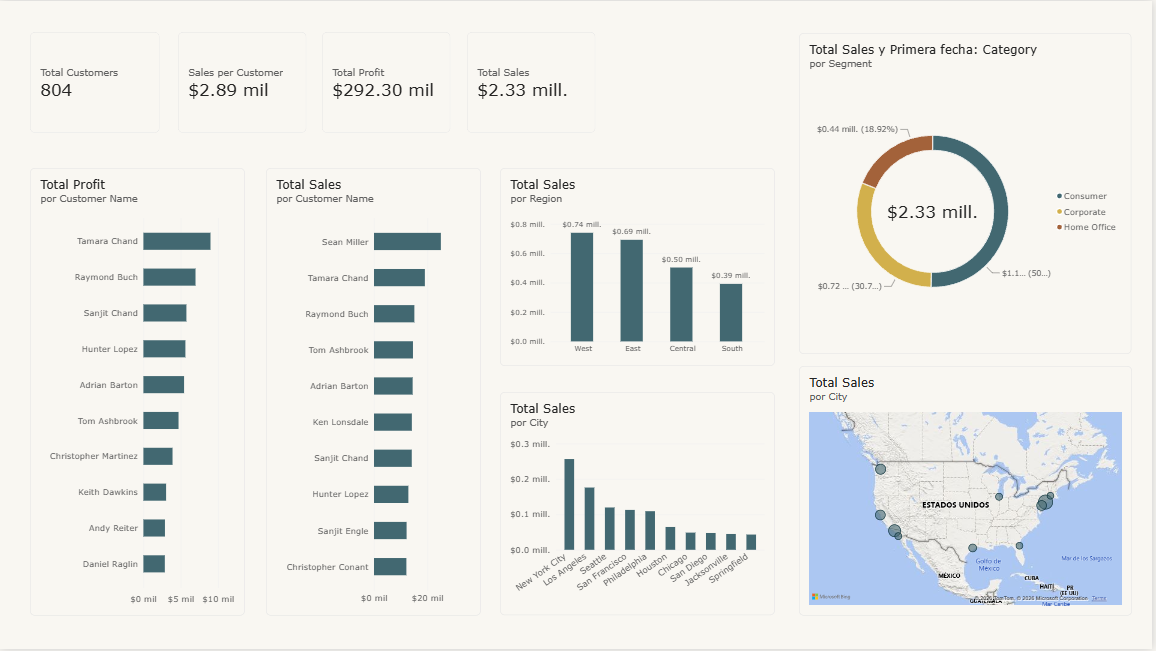

This screenshot's page, from the dashboard's own definition file:
{"tool":"powerbi","page":{"name":"Customer & Regional Analysis","canvas":[1920,1080],"ordinal":3},"visuals":[{"type":"clusteredColumnChart","fields":{"Category":["Orders.Region"],"Y":["Orders.Total Sales"]},"box":[834,278,458,330],"z":0},{"type":"donutChart","fields":{"Category":["Orders.Segment"],"Y":["Orders.Total Sales"]},"box":[1332,52.5,554.4,535.4],"z":2000},{"type":"clusteredBarChart","fields":{"Category":["Orders.Customer Name"],"Y":["Orders.Total Sales"]},"box":[444,278,357.5,746.2],"z":3000},{"type":"clusteredBarChart","fields":{"Category":["Orders.Customer Name"],"Y":["Orders.Total Profit"]},"box":[50,278,357.5,746.2],"z":4000},{"type":"clusteredColumnChart","fields":{"Category":["Orders.City"],"Y":["Orders.Total Sales"]},"box":[834,652,458,372],"z":5000},{"type":"cardVisual","fields":{"Data":["Orders.Total Customers"]},"box":[50,52,216,168],"z":6000},{"type":"cardVisual","fields":{"Data":["Orders.Sales per Customer"]},"box":[296,52,214,168],"z":7000},{"type":"cardVisual","fields":{"Data":["Orders.Total Sales"]},"box":[778,52,214,168],"z":8000},{"type":"cardVisual","fields":{"Data":["Orders.Total Profit"]},"box":[536,52,214,168],"z":9000},{"type":"map","fields":{"Category":["Orders.City"],"Size":["Orders.Total Sales"]},"box":[1331.4,607.8,554.6,416.3],"z":10001}]}

Visuals, with their boxes in screenshot pixels (x1, y1, x2, y2), scaled from the page's 1920x1080 canvas onto the 1156x651 screenshot:
clusteredColumnChart - Orders.Region x Orders.Total Sales: bbox(502, 168, 778, 366)
donutChart - Orders.Segment x Orders.Total Sales: bbox(802, 32, 1136, 354)
clusteredBarChart - Orders.Customer Name x Orders.Total Sales: bbox(267, 168, 483, 617)
clusteredBarChart - Orders.Customer Name x Orders.Total Profit: bbox(30, 168, 245, 617)
clusteredColumnChart - Orders.City x Orders.Total Sales: bbox(502, 393, 778, 617)
cardVisual - Orders.Total Customers: bbox(30, 31, 160, 133)
cardVisual - Orders.Sales per Customer: bbox(178, 31, 307, 133)
cardVisual - Orders.Total Sales: bbox(468, 31, 597, 133)
cardVisual - Orders.Total Profit: bbox(323, 31, 452, 133)
map - Orders.City x Orders.Total Sales: bbox(802, 366, 1136, 617)
